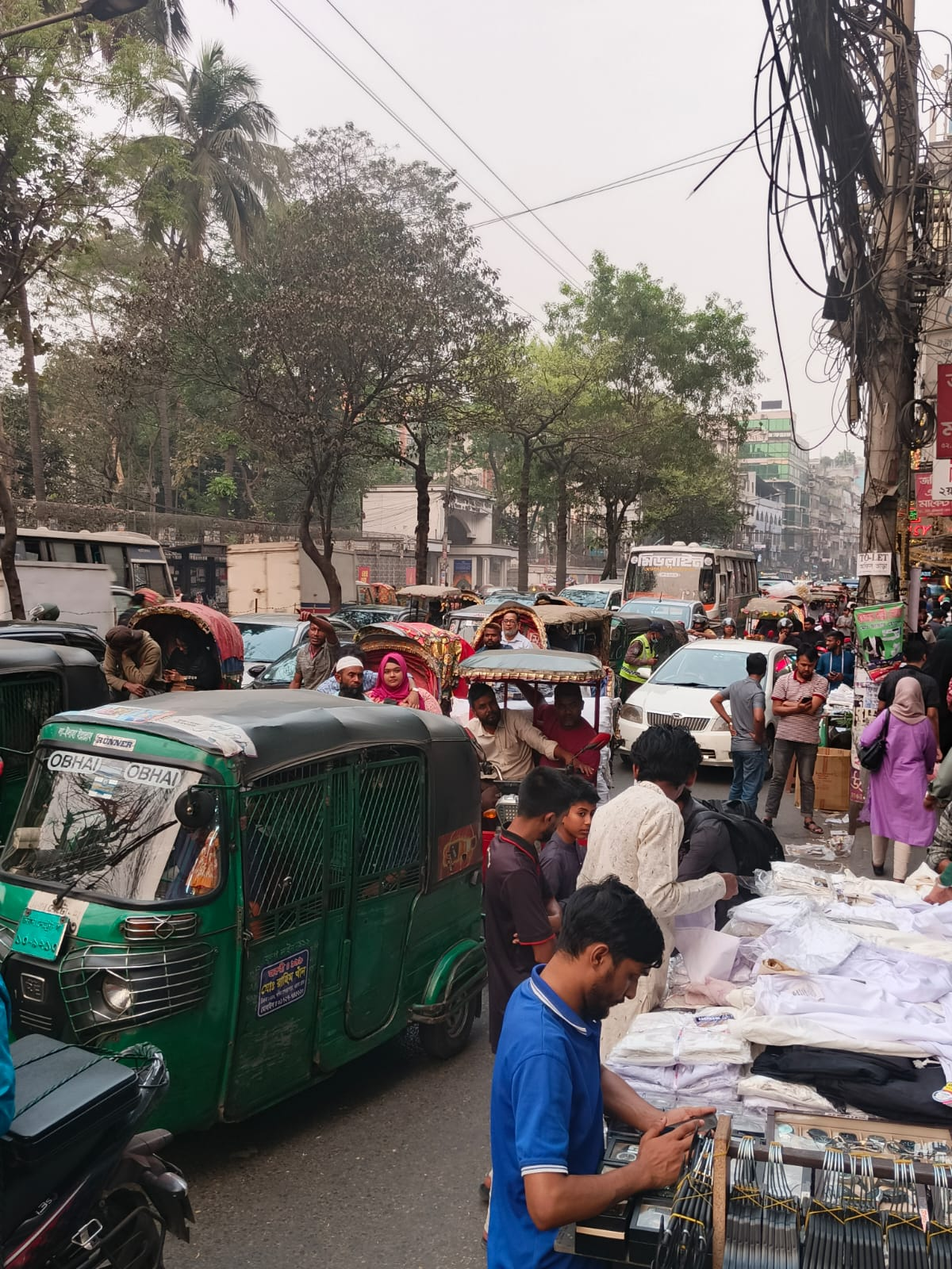cng: (12, 672, 508, 1121)
private car: (621, 630, 816, 780)
